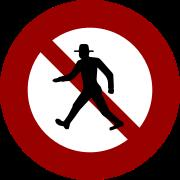Pedestrian Prohibited: (9, 3, 167, 163)
